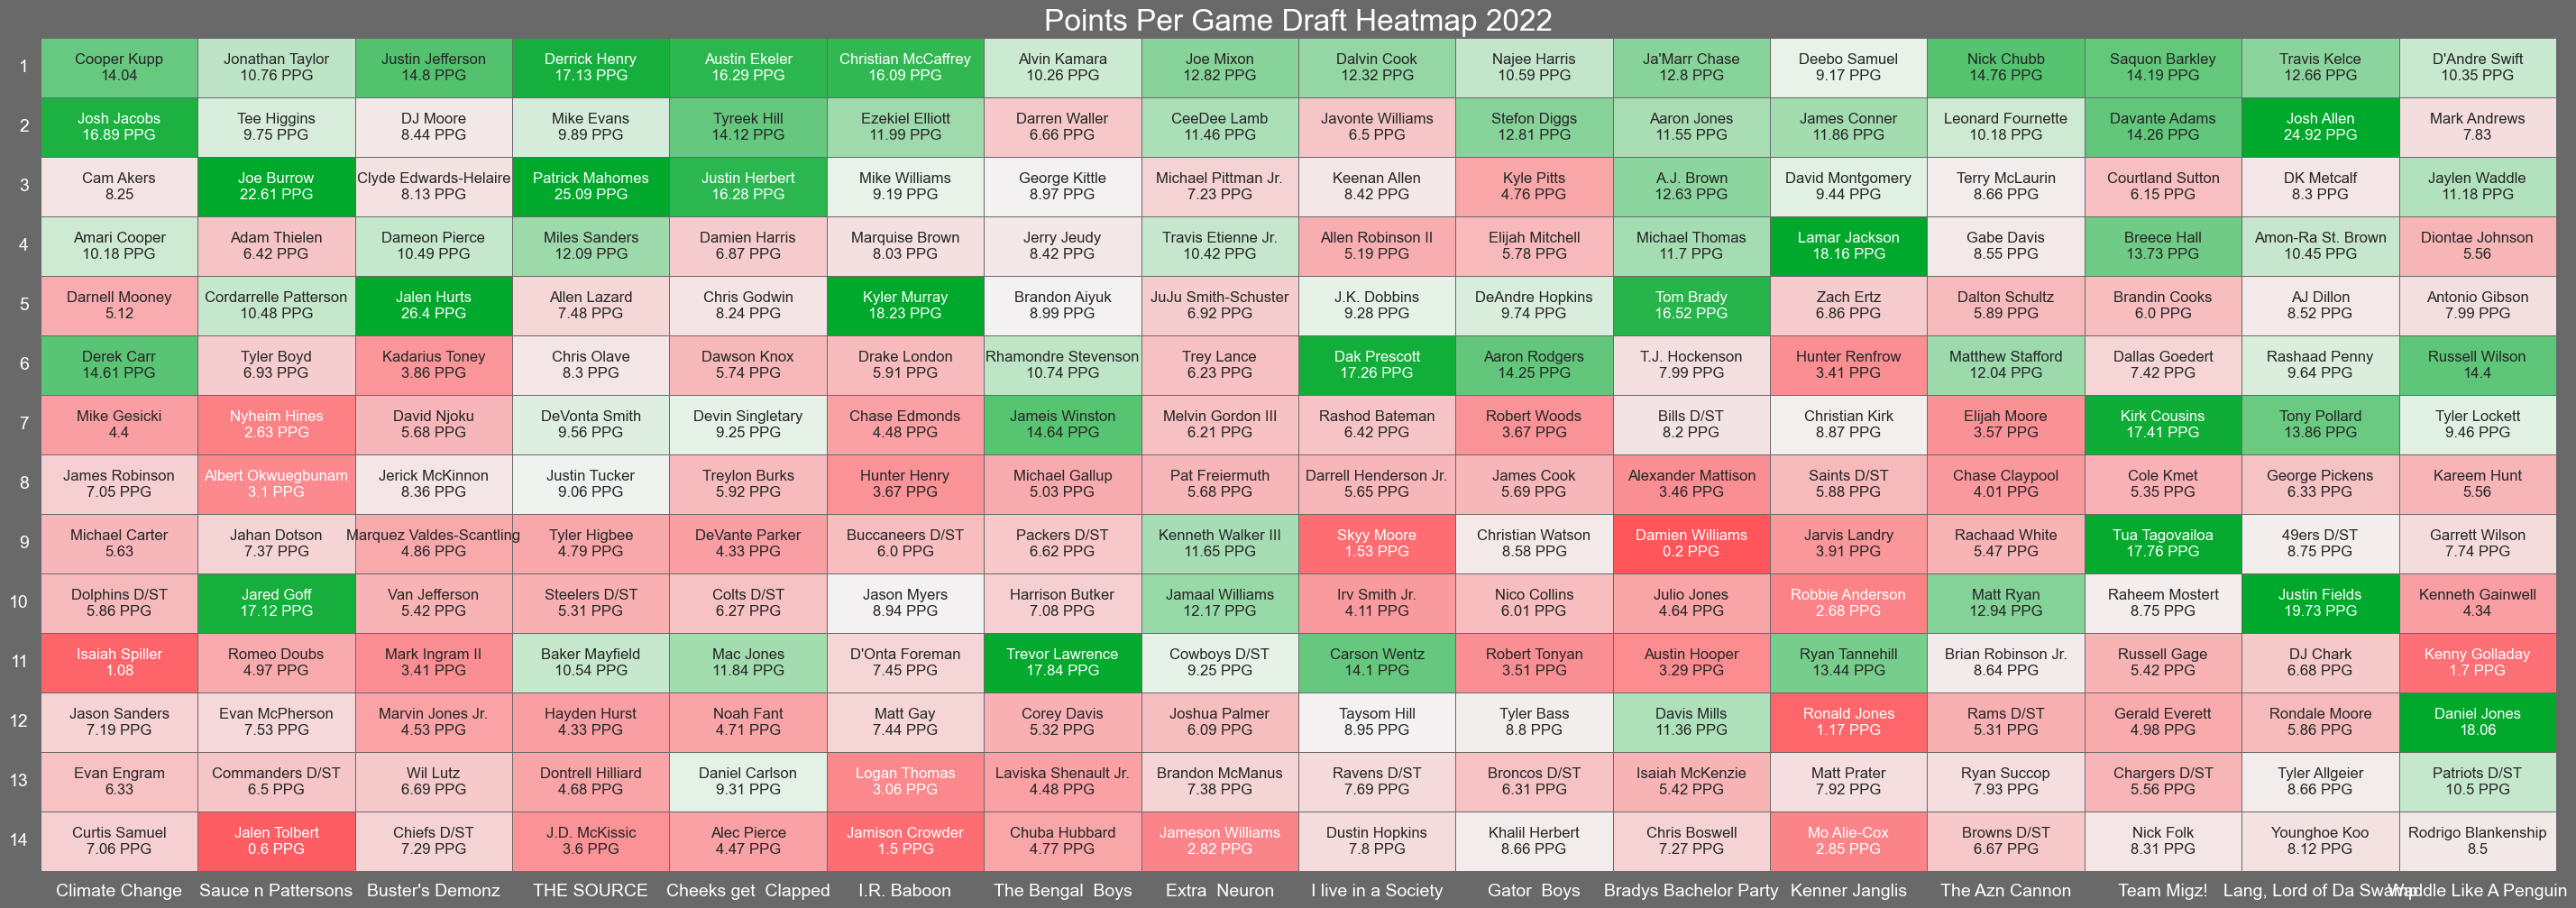

The page's visual inventory and layout, read from the dashboard file:
{"tool":"powerbi","page":{"name":"Page 3","canvas":[1280,720],"ordinal":2},"visuals":[{"type":"pivotTable","fields":{"Rows":["Query1.round","Query1.playername"],"Columns":["Query1.pick"],"Values":["Sum(Query1.total)"]},"box":[0,0,1280,720],"z":1}]}

Visuals, with their boxes on the page's 1280x720 design canvas (x1, y1, x2, y2). These are canvas units, not pixel positions in the 2576x908 screenshot, which may show the page scaled, cropped or inside an application window:
pivotTable - Query1.round x Query1.playername: 0,0,1280,720
